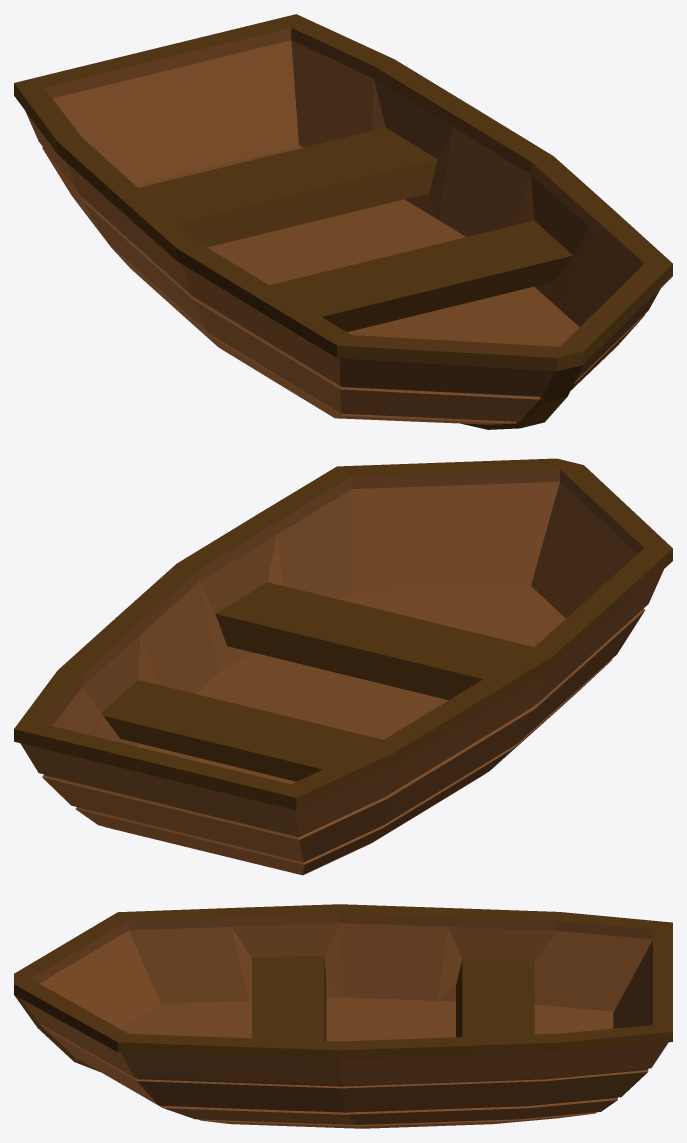
File: low_poly_boat.glb
The picture shows the model from 3 angles, top to bottom: view 1: azimuth 30°, elevation 25°; view 2: azimuth 150°, elevation 25°; view 3: azimuth 270°, elevation 25°; orthographic projection. The views are drawn at different scales.
Parts seen in each view (by area): view 1: Boat; view 2: Boat; view 3: Boat.
Part boxes in pixels (x1=…): Boat: x1=14, y1=14, x2=672, y2=429; Boat: x1=14, y1=458, x2=672, y2=875; Boat: x1=14, y1=904, x2=672, y2=1128.
Size of the model in its own units: 2.17 by 0.7742 by 4.14.
